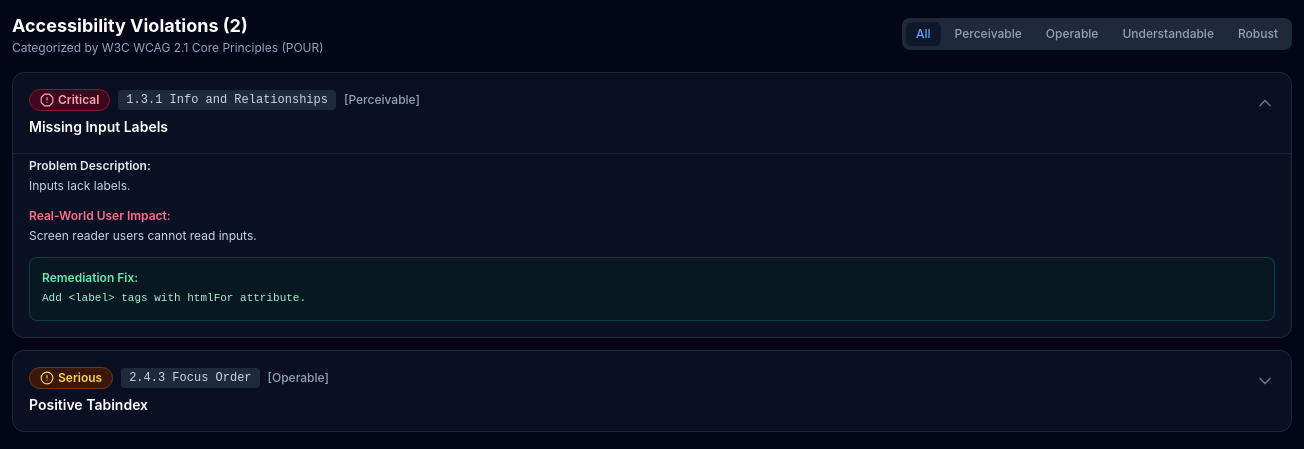
Test: IssuesList Component › filters issues when principle tab is clicked
Click the tab "Operable" at (1072, 34), box [1036, 22, 1108, 46]
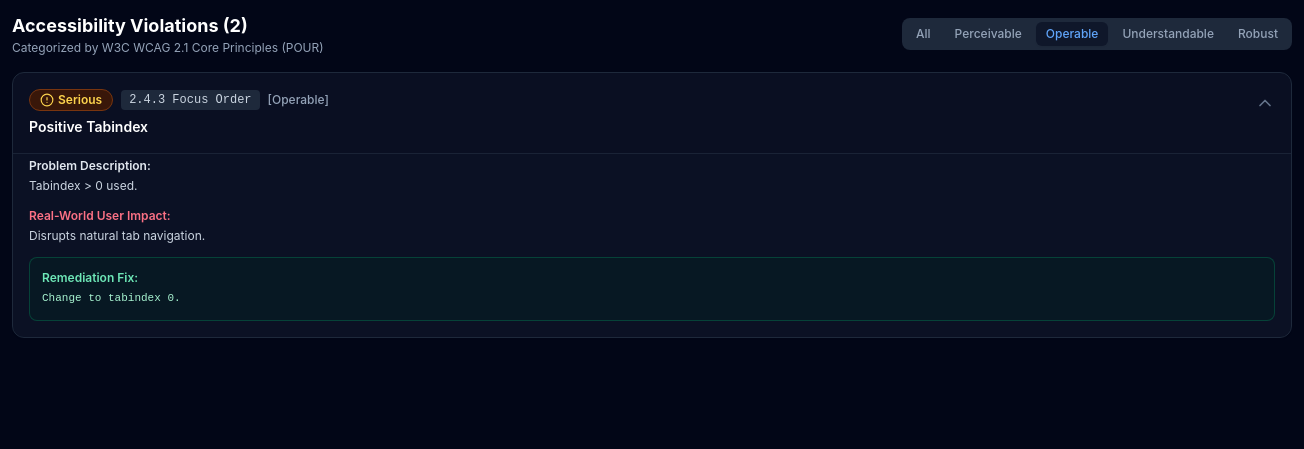
Expected: the heading "Positive Tabindex" is shown, [29, 118, 148, 135]
Expected: the button "Missing Input Labels" is gone
